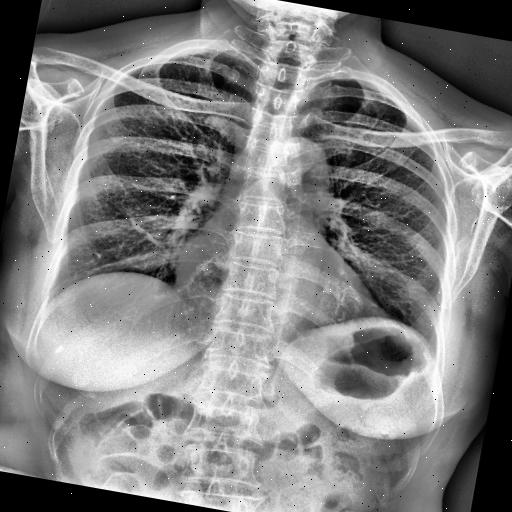0- Aortic enlargement: (270, 134, 338, 206), (266, 130, 336, 184), (266, 134, 334, 186)
11- Pleural thickening: (174, 39, 215, 63)
3- Cardiomegaly: (162, 231, 398, 332)
